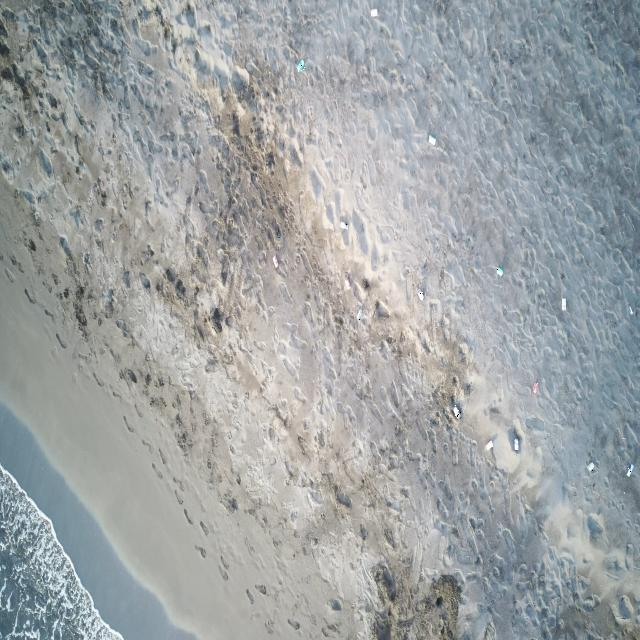tin-and-aluminum-cans: (453, 404, 461, 418), (297, 59, 305, 72), (626, 464, 634, 477), (428, 134, 436, 146), (416, 289, 424, 301), (486, 439, 493, 452), (340, 221, 349, 231), (496, 266, 504, 276), (273, 255, 279, 268), (562, 297, 567, 312), (345, 278, 351, 290), (514, 438, 519, 452), (371, 8, 378, 17), (588, 462, 594, 472), (533, 382, 538, 394), (357, 308, 362, 320)
